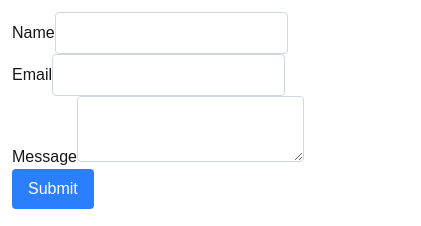
Test: ContactForm › should display error when email loses focus and value is empty
Click the field labelled "Email": (168, 75) [52, 54, 285, 96]
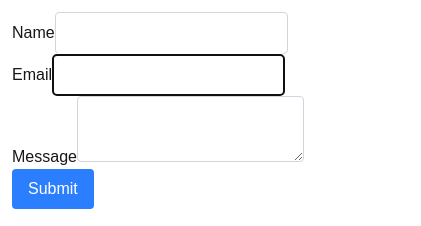
Press Tab
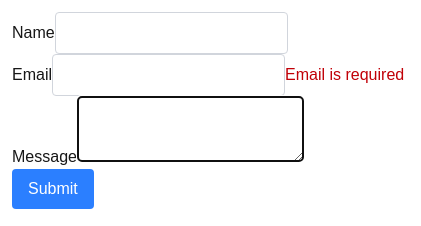
Now the text "Email is required" is shown, box [285, 66, 404, 83]
